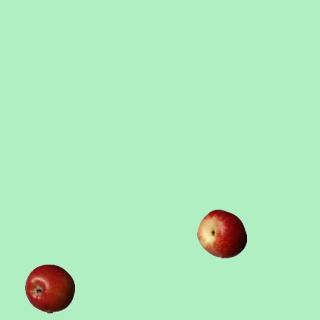Apple Braeburn: (24, 263, 74, 313)
Nectarine: (196, 208, 246, 258)
